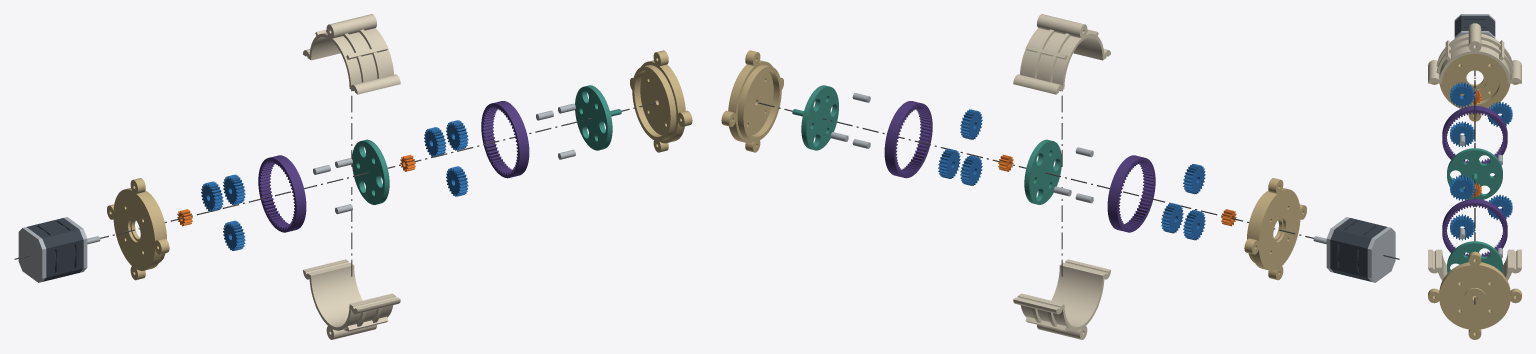
The picture shows the model from 3 angles, left to right: view 1: azimuth 30°, elevation 25°; view 2: azimuth 150°, elevation 25°; view 3: azimuth 270°, elevation 25°; orthographic projection. The views are drawn at different scales.
Visible parts, largest first — view 1: 12_ShellLower_下半壳.001, 11_ShellUpper_上半壳.001, 10_EndCap_输出端盖.001, 01_FrontFlange_前法兰.001, motor_body.001, 08_Ring2_内齿圈.001, 04_Ring1_内齿圈.001, 09_Carrier2_Output_行星架及输出轴.001, 05_Carrier1_行星架.001, 00_Motor_EndPlates.001, 13_CentreLines_中心线.001, 03_Planet1_2_行星轮.001 (+5 smaller); view 2: 12_ShellLower_下半壳.001, 11_ShellUpper_上半壳.001, 10_EndCap_输出端盖.001, 01_FrontFlange_前法兰.001, motor_body.001, 08_Ring2_内齿圈.001, 04_Ring1_内齿圈.001, 09_Carrier2_Output_行星架及输出轴.001, 05_Carrier1_行星架.001, 00_Motor_EndPlates.001, 13_CentreLines_中心线.001, 03_Planet1_1_行星轮.001 (+5 smaller); view 3: 10_EndCap_输出端盖.001, 01_FrontFlange_前法兰.001, 11_ShellUpper_上半壳.001, 05_Carrier1_行星架.001, 04_Ring1_内齿圈.001, 08_Ring2_内齿圈.001, 12_ShellLower_下半壳.001, 09_Carrier2_Output_行星架及输出轴.001, motor_body.001, 07_Planet2_2_行星轮.001, 03_Planet1_2_行星轮.001, 03_Planet1_3_行星轮.001 (+7 smaller).
Part boxes in pixels (x1,y1,x2,y2): 12_ShellLower_下半壳.001: (303,259,400,339); 11_ShellUpper_上半壳.001: (303,14,400,94); 10_EndCap_输出端盖.001: (630,50,692,152); 01_FrontFlange_前法兰.001: (107,178,169,280); motor_body.001: (27,218,83,281); 08_Ring2_内齿圈.001: (481,101,529,178); 04_Ring1_内齿圈.001: (258,155,306,232); 09_Carrier2_Output_行星架及输出轴.001: (575,85,621,150); 05_Carrier1_行星架.001: (352,139,389,204); 00_Motor_EndPlates.001: (18,217,87,282); 13_CentreLines_中心线.001: (14,90,655,276); 03_Planet1_2_行星轮.001: (223,174,245,204); 12_ShellLower_下半壳.001: (1013,259,1110,339); 11_ShellUpper_上半壳.001: (1013,14,1110,94); 10_EndCap_输出端盖.001: (721,50,783,152); 01_FrontFlange_前法兰.001: (1244,178,1306,280); motor_body.001: (1330,218,1386,281); 08_Ring2_内齿圈.001: (884,101,932,178); 04_Ring1_内齿圈.001: (1107,155,1155,232); 09_Carrier2_Output_行星架及输出轴.001: (792,85,838,150); 05_Carrier1_行星架.001: (1024,139,1061,204); 00_Motor_EndPlates.001: (1326,217,1395,282); 13_CentreLines_中心线.001: (758,90,1399,276); 03_Planet1_1_行星轮.001: (1161,203,1183,233); 10_EndCap_输出端盖.001: (1428,251,1521,339); 01_FrontFlange_前法兰.001: (1431,54,1518,121); 11_ShellUpper_上半壳.001: (1428,23,1521,83); 05_Carrier1_行星架.001: (1447,148,1502,199); 04_Ring1_内齿圈.001: (1442,106,1507,163); 08_Ring2_内齿圈.001: (1442,199,1507,256); 12_ShellLower_下半壳.001: (1428,249,1521,296); 09_Carrier2_Output_行星架及输出轴.001: (1447,241,1502,272); motor_body.001: (1454,15,1495,36); 07_Planet2_2_行星轮.001: (1450,175,1474,200); 03_Planet1_2_行星轮.001: (1450,81,1474,107); 03_Planet1_3_行星轮.001: (1450,121,1474,147).
Size of the model in its own units: 0.681 by 0.307 by 0.097.
